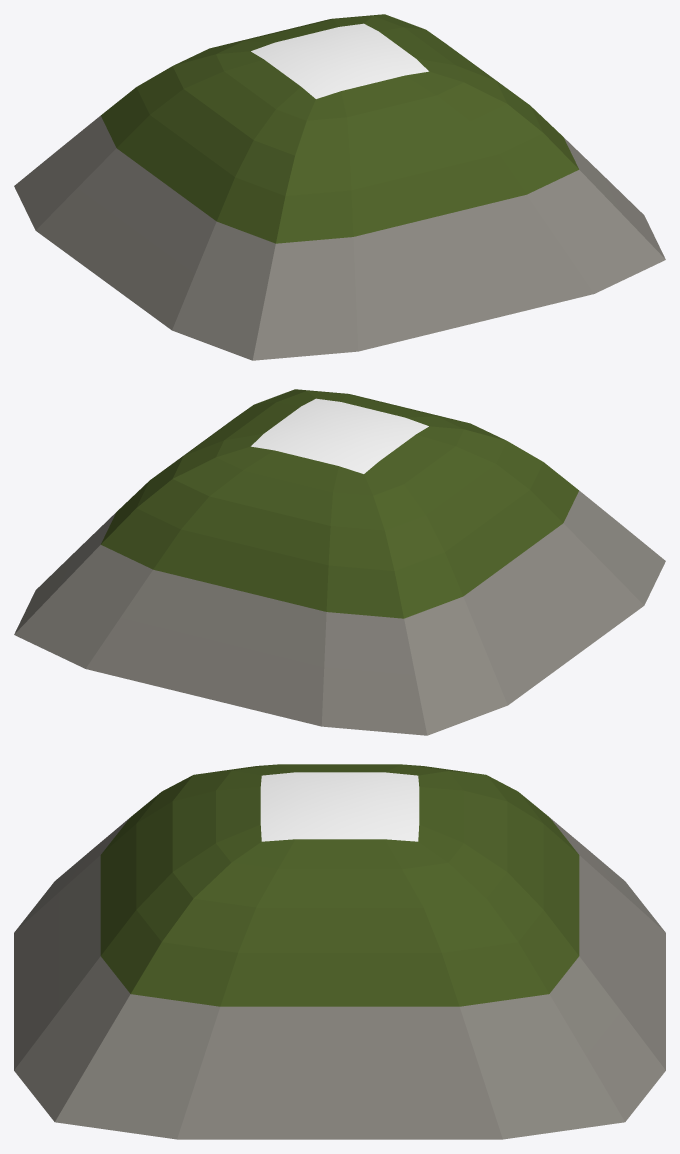
Rendered from Island4.FBX.
3 views of the same model, one above another, from view 1: azimuth 30°, elevation 25°; view 2: azimuth 150°, elevation 25°; view 3: azimuth 270°, elevation 25° (orthographic). The views are drawn at different scales.
Visible parts, largest first — view 1: Plane001; view 2: Plane001; view 3: Plane001.
Boxes of the visible parts, box(x1,y1,x2,y2) form: Plane001: box(14, 14, 665, 360); Plane001: box(14, 389, 665, 735); Plane001: box(14, 764, 665, 1139).
Size of the model in its own units: 20 by 6.76 by 20.
